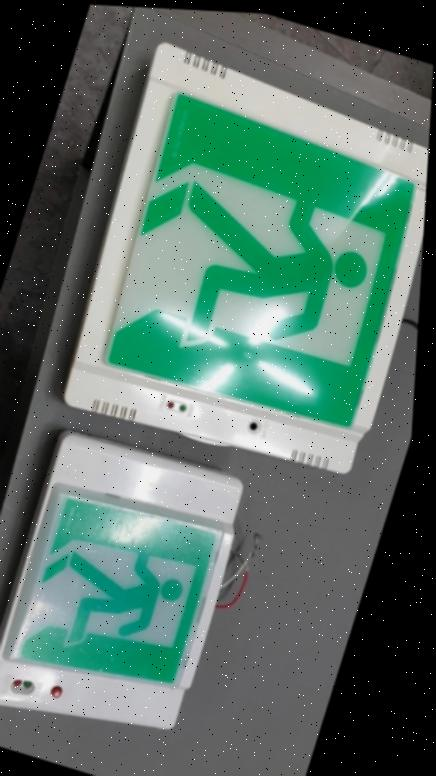emergency_exit: (2, 5, 432, 771), (62, 42, 428, 474), (1, 430, 244, 730)
